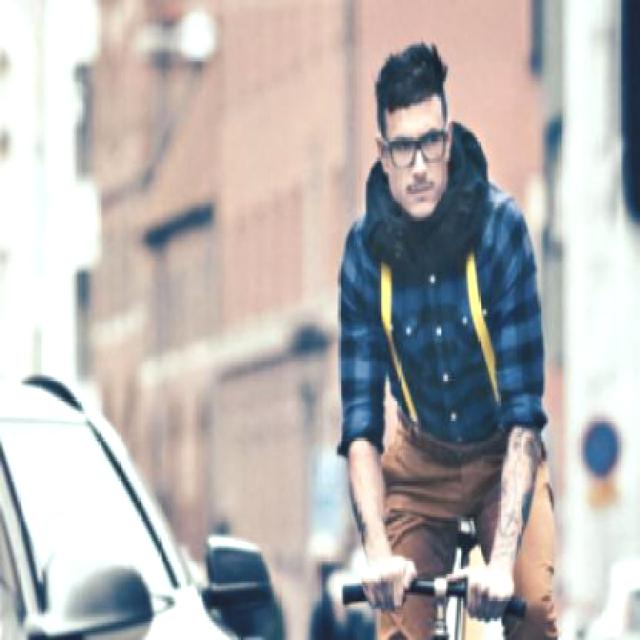Without Helmet: (368, 41, 463, 224)
